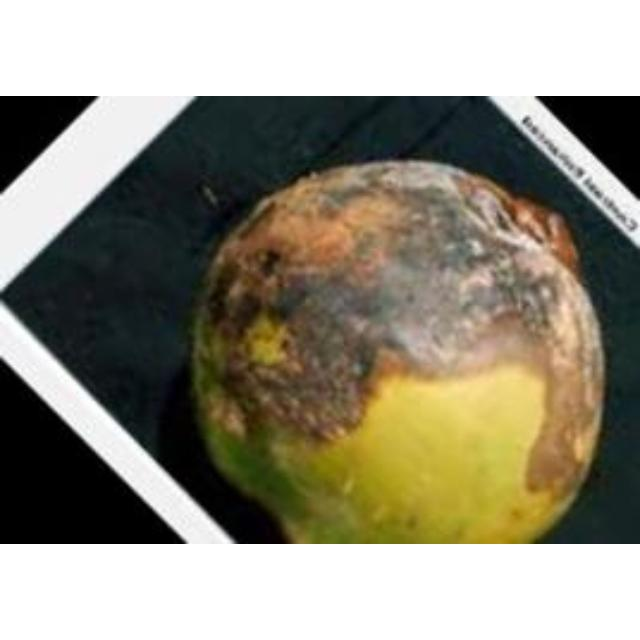damaged: (189, 160, 607, 543)
